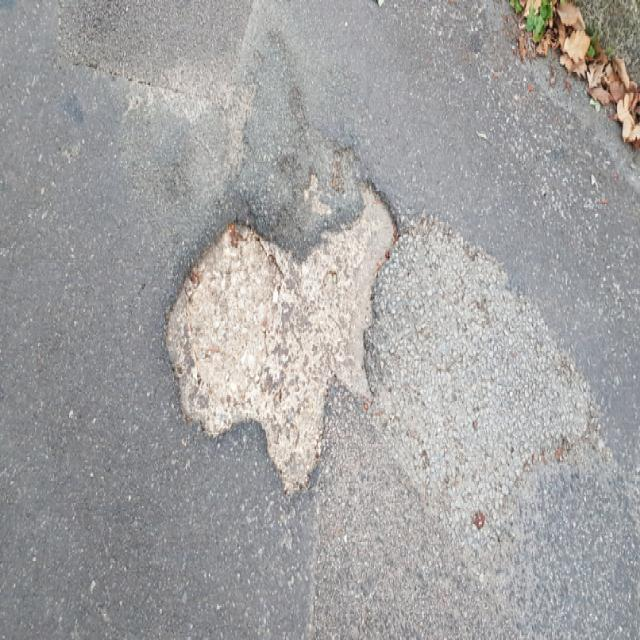pothole: (161, 168, 399, 498)
